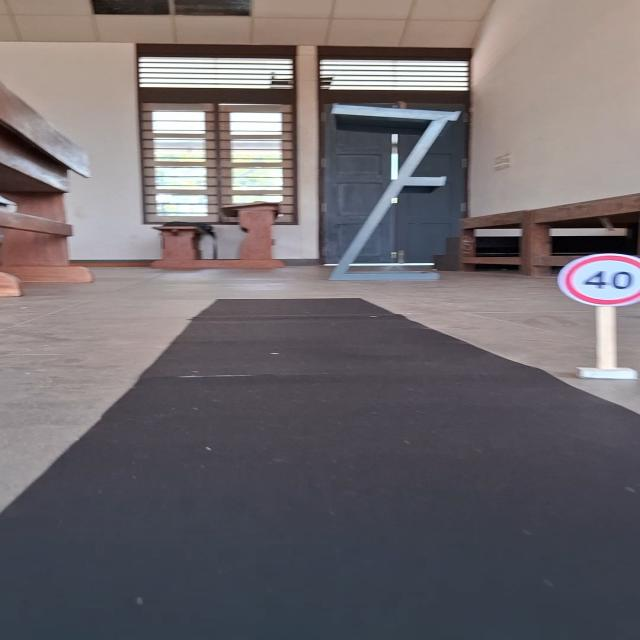Speed40: (552, 252, 640, 308)
